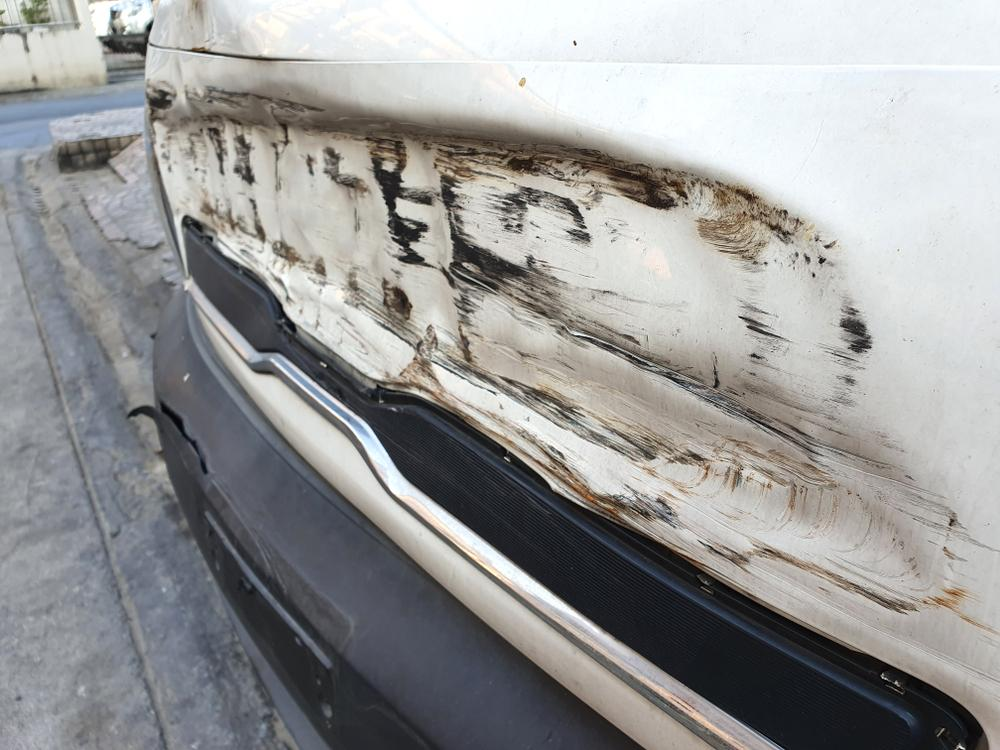crack: (157, 396, 211, 478)
scratch: (154, 82, 954, 615)
